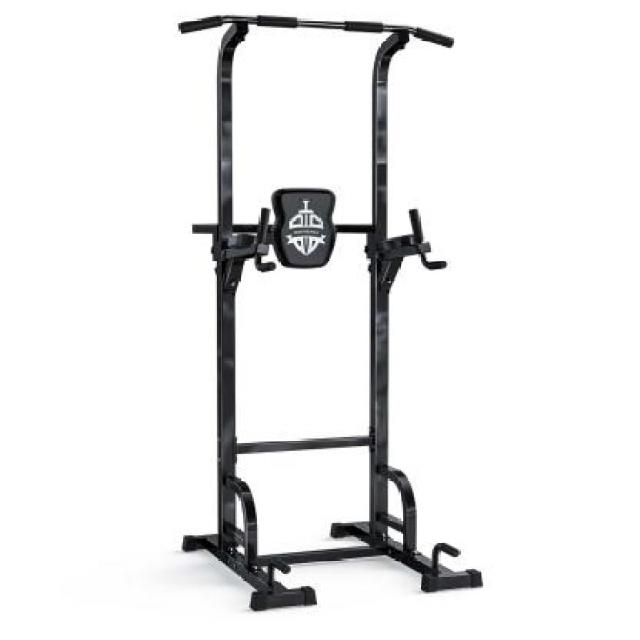chinning dipping: (180, 14, 485, 609)
